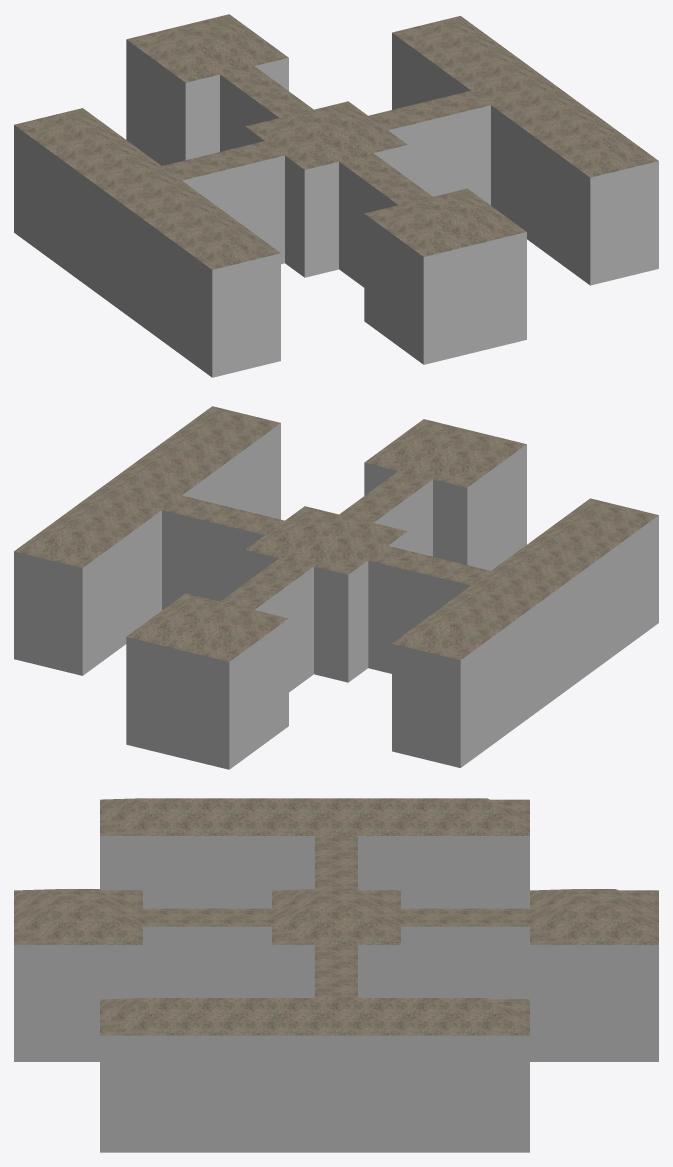
Rendered from MainHall.obj.
The picture shows the model from 3 angles, top to bottom: view 1: azimuth 30°, elevation 25°; view 2: azimuth 150°, elevation 25°; view 3: azimuth 270°, elevation 25°; orthographic projection. The views are drawn at different scales.
Visible parts, largest first — view 1: grp2, grp1; view 2: grp2, grp1; view 3: grp2, grp1.
Boxes of the visible parts, x1=… form: grp2: x1=14, y1=33, x2=658, y2=377; grp1: x1=14, y1=14, x2=658, y2=269; grp2: x1=14, y1=423, x2=658, y2=769; grp1: x1=14, y1=406, x2=658, y2=661; grp2: x1=14, y1=836, x2=658, y2=1152; grp1: x1=14, y1=798, x2=658, y2=1035.
Size of the model in its own units: 390 by 105 by 450.
